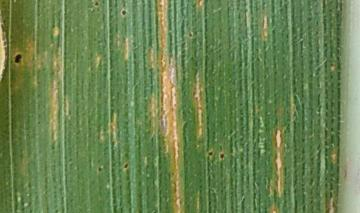tarspot: (10, 50, 26, 66), (204, 147, 215, 161), (118, 8, 130, 18), (218, 151, 227, 163), (122, 161, 129, 172)
